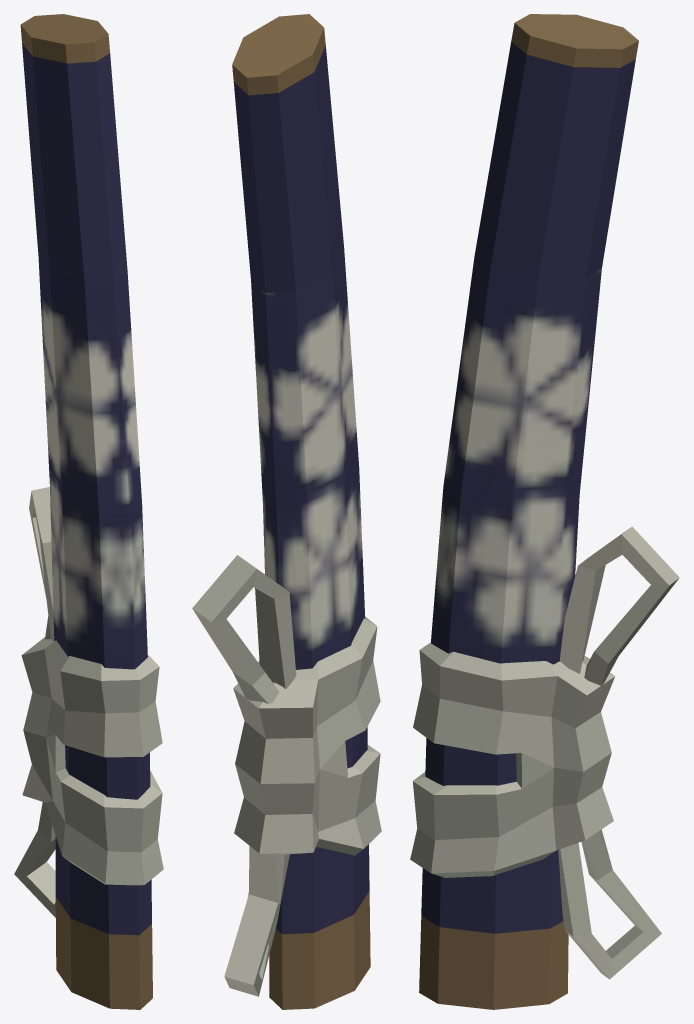
File: samurai_SM_Wep_Knife_Sheath_01_Alt_02.gltf
3 renders of one model, left to right at view 1: azimuth 30°, elevation 25°; view 2: azimuth 150°, elevation 25°; view 3: azimuth 270°, elevation 25°, orthographic. The views are drawn at different scales.
Visible parts, largest first — view 1: SM_Wep_Knife_Sheath_01_Alt_02; view 2: SM_Wep_Knife_Sheath_01_Alt_02; view 3: SM_Wep_Knife_Sheath_01_Alt_02.
Part boxes in pixels (left/top/right/bottom): SM_Wep_Knife_Sheath_01_Alt_02: left=14, top=14, right=163, bottom=1009; SM_Wep_Knife_Sheath_01_Alt_02: left=192, top=14, right=381, bottom=1009; SM_Wep_Knife_Sheath_01_Alt_02: left=410, top=14, right=679, bottom=1009.
Bounding box in the file's own units: 0.0432 × 0.454 × 0.1143.
1 material, 1 textured.
